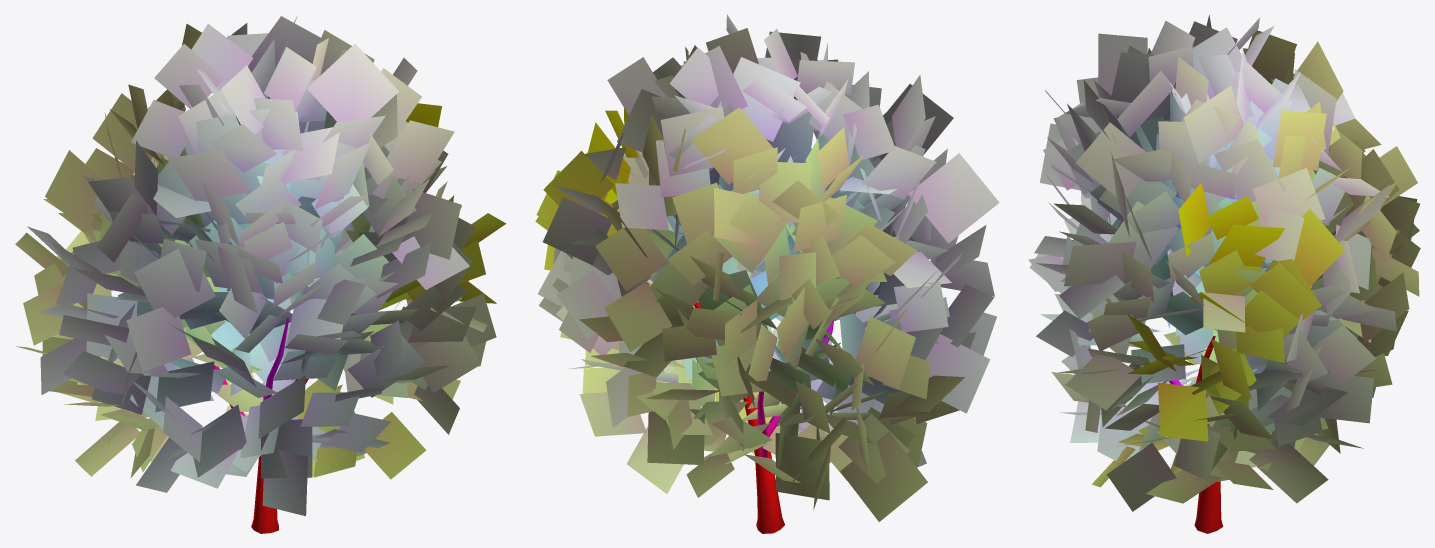
File: chinar_middle_lod1.glb
3 renders of one model, left to right at view 1: azimuth 30°, elevation 25°; view 2: azimuth 150°, elevation 25°; view 3: azimuth 270°, elevation 25°, orthographic.
Parts seen in each view (by area): view 1: chinar_middle_lod1; view 2: chinar_middle_lod1; view 3: chinar_middle_lod1.
Part boxes in pixels (<box>): chinar_middle_lod1: <box>15,15,506,533</box>; chinar_middle_lod1: <box>535,14,999,533</box>; chinar_middle_lod1: <box>1028,15,1420,533</box>.
Bounding box in the file's own units: 17.78 × 19.08 × 13.7.
